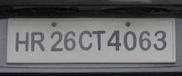0: (122, 29, 137, 51)
2: (48, 29, 63, 51)
3: (153, 29, 166, 51)
4: (105, 29, 122, 50)
6: (137, 29, 152, 51), (61, 29, 76, 50)
C: (77, 29, 92, 51)
H: (13, 30, 29, 52)
R: (29, 31, 46, 52)
T: (90, 29, 105, 50)
